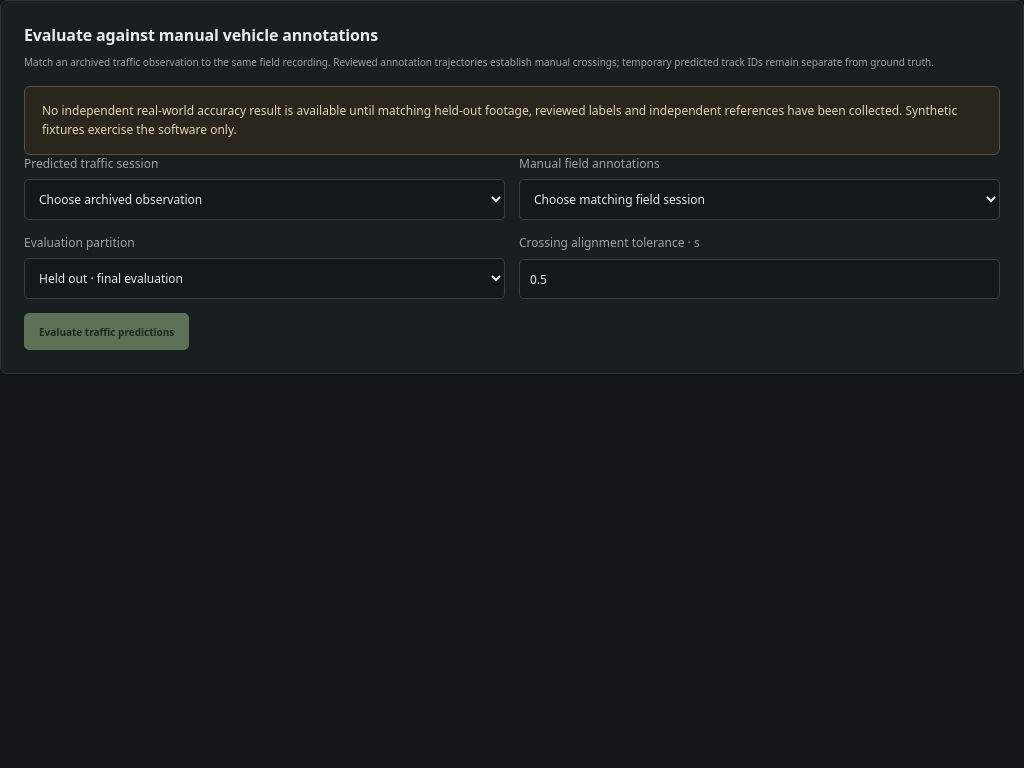
it: traffic annotation evidence › defaults to held out and displays counts, classification errors and duplicated tracks
Select "Predicted fixture · synthetic" in the dropdown labelled "Predicted traffic session" at (264, 200), box [24, 179, 505, 220]
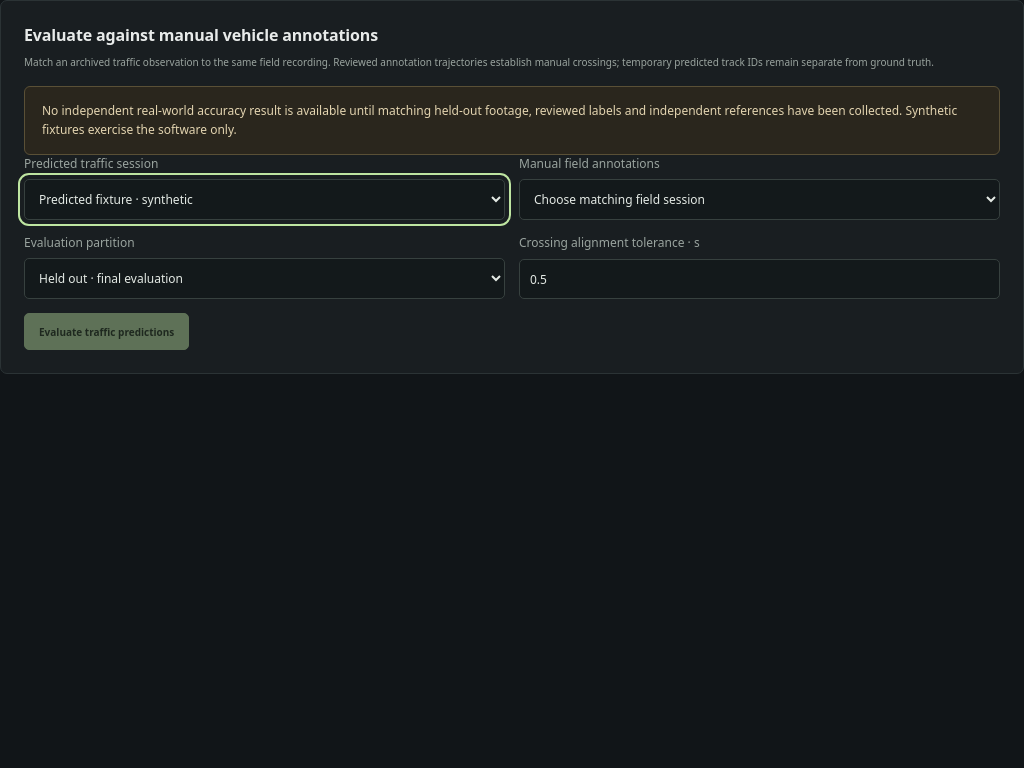
Select "Manual fixture · held_out · synthetic" in the dropdown labelled "Manual field annotations" at (760, 200), box [519, 179, 1000, 220]
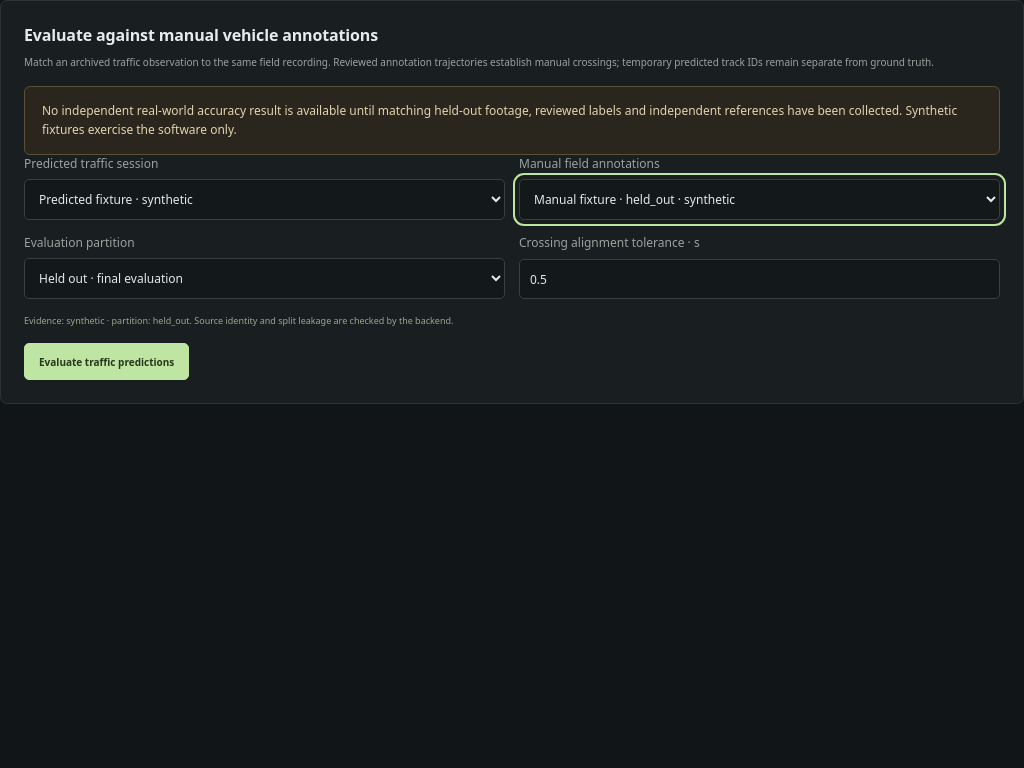
Click the button "Evaluate traffic predictions" at (107, 362), box [24, 343, 189, 380]
(page scrolled)
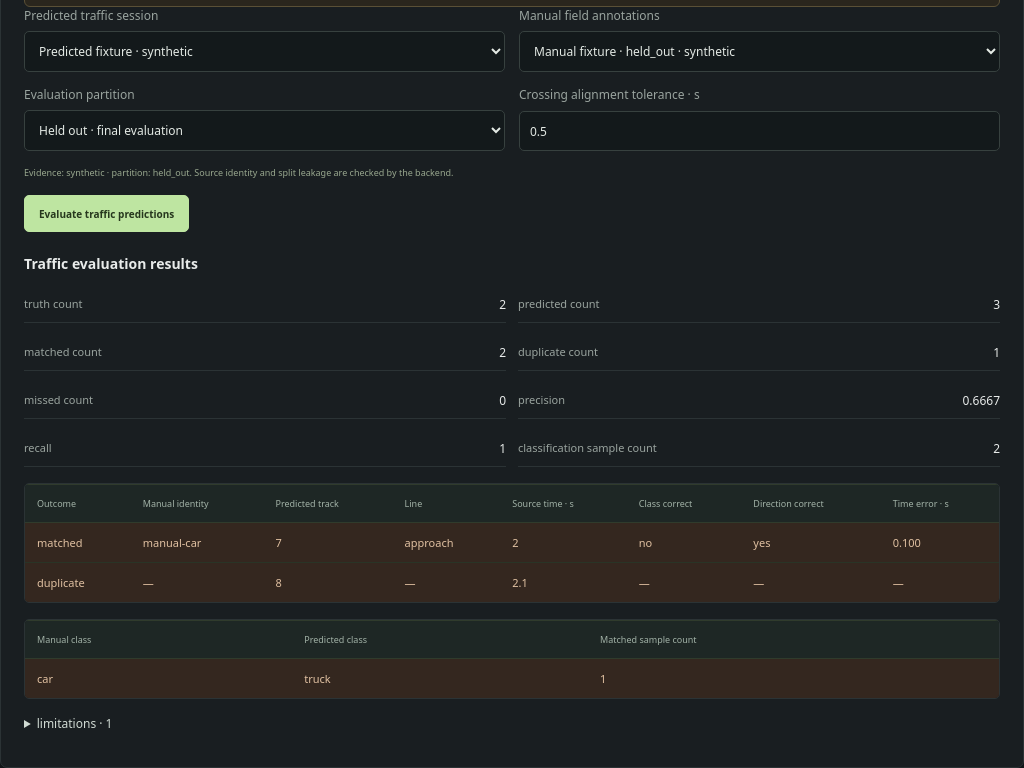
Check: the heading "Traffic evaluation results" is shown, box [24, 254, 198, 273]
Check: the text "duplicate" is shown, box [25, 563, 131, 602]
Check: the text "manual-car" is shown, box [131, 523, 264, 563]
